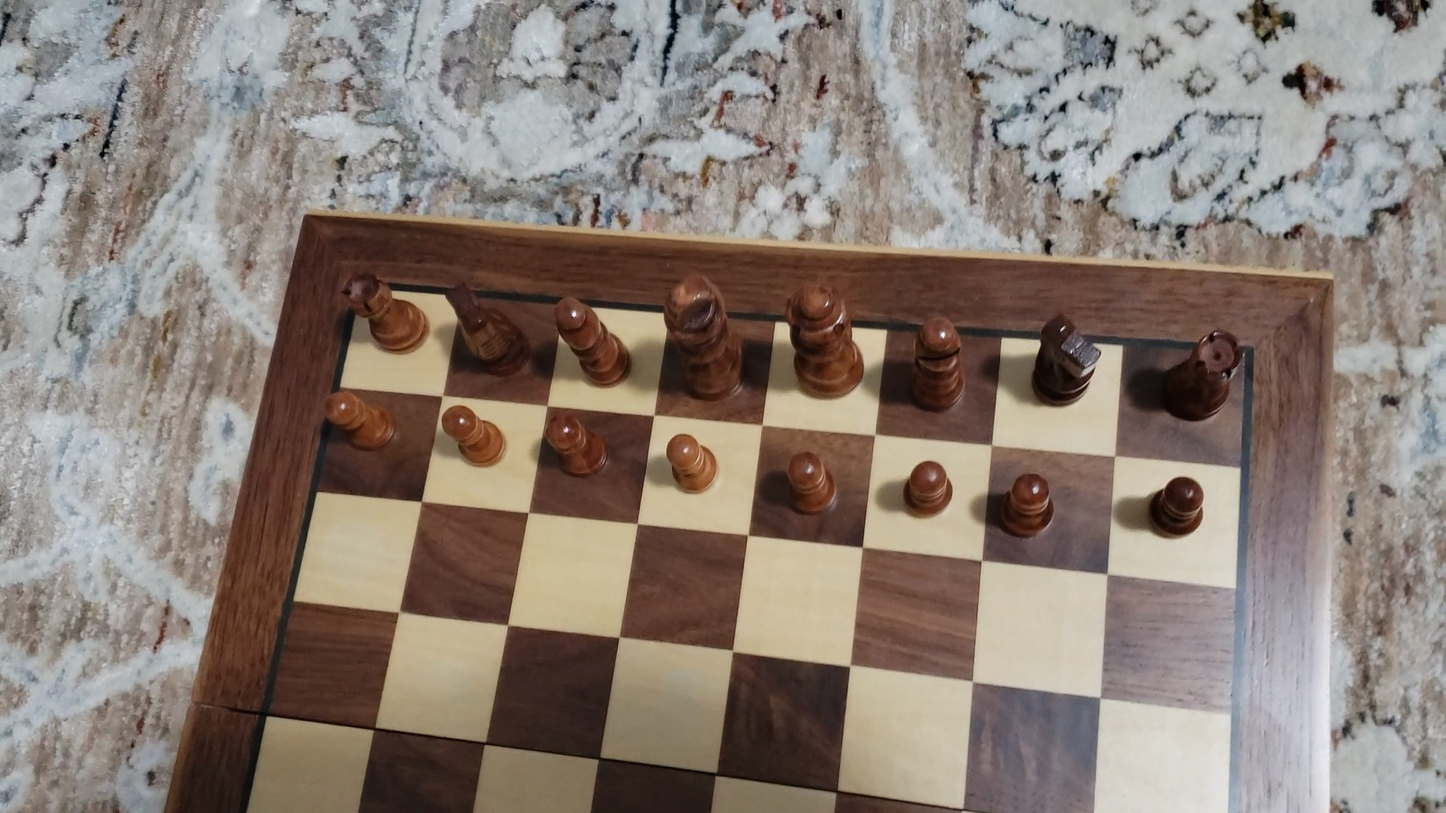black-bishop: (552, 293, 631, 387), (910, 312, 966, 413)
black-king: (661, 266, 746, 404)
black-knight: (439, 278, 530, 379), (1030, 311, 1100, 406)
black-pawn: (438, 401, 507, 469), (324, 387, 396, 452), (543, 410, 608, 478), (997, 470, 1059, 540), (1147, 473, 1209, 542), (782, 446, 840, 518), (663, 430, 719, 496), (902, 457, 955, 521)
black-queen: (783, 274, 866, 400)
black-rook: (1156, 328, 1244, 423), (339, 270, 428, 355)
